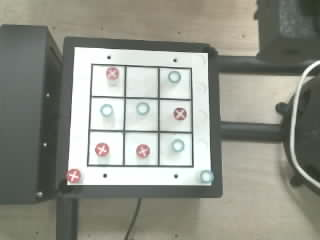blue circle: (200, 170, 213, 183), (136, 102, 149, 114), (171, 139, 184, 151), (168, 71, 180, 83), (100, 104, 112, 116)
board: (66, 46, 215, 186)
cells: (89, 132, 122, 164), (125, 133, 157, 165), (92, 65, 124, 96), (91, 98, 123, 129), (160, 134, 191, 165), (160, 100, 191, 131), (126, 99, 157, 130), (126, 67, 157, 97), (160, 68, 190, 98)
grid: (87, 64, 193, 167)
red cross: (66, 169, 81, 183), (95, 143, 109, 156), (136, 144, 149, 157), (106, 67, 119, 79), (174, 107, 186, 119)
